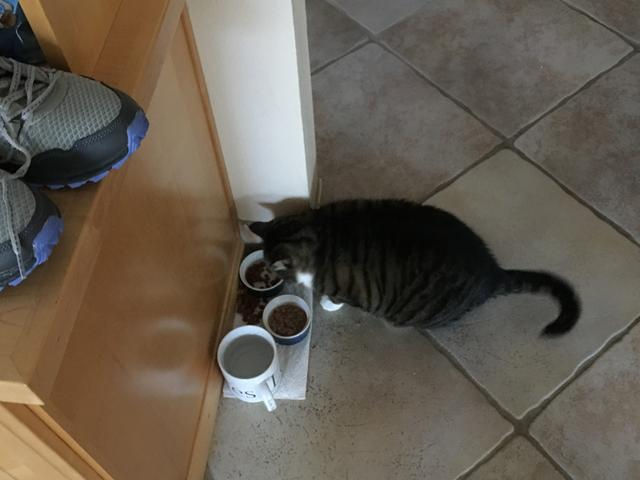playdoh: (250, 198, 585, 342)
